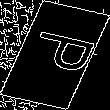P_E: (13, 30, 97, 80)
